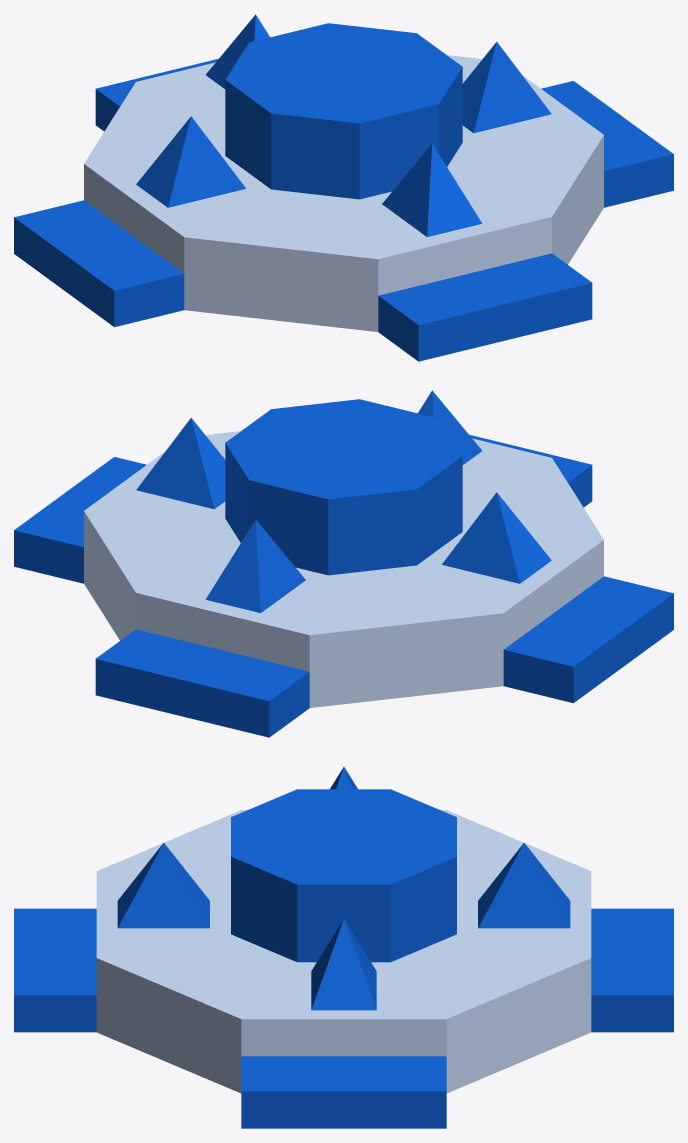
The model's file is Mortar_Shell_Mine.fbx.
3 views of the same model, one above another, from view 1: azimuth 30°, elevation 25°; view 2: azimuth 150°, elevation 25°; view 3: azimuth 270°, elevation 25° (orthographic). The views are drawn at different scales.
Visible parts, largest first — view 1: Mine; view 2: Mine; view 3: Mine.
Part boxes in pixels (box(x1,y1,x2,y2)): Mine: box(14, 14, 673, 361); Mine: box(14, 390, 673, 737); Mine: box(14, 767, 673, 1128).
Size of the model in its own units: 9.38 by 2.39 by 9.38.
Materials: 1 (1 with a texture image).
